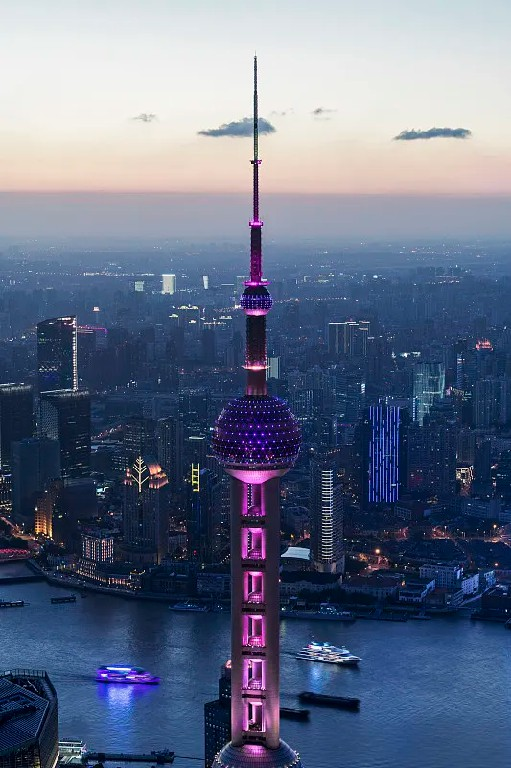Oriental: (212, 55, 302, 768)
